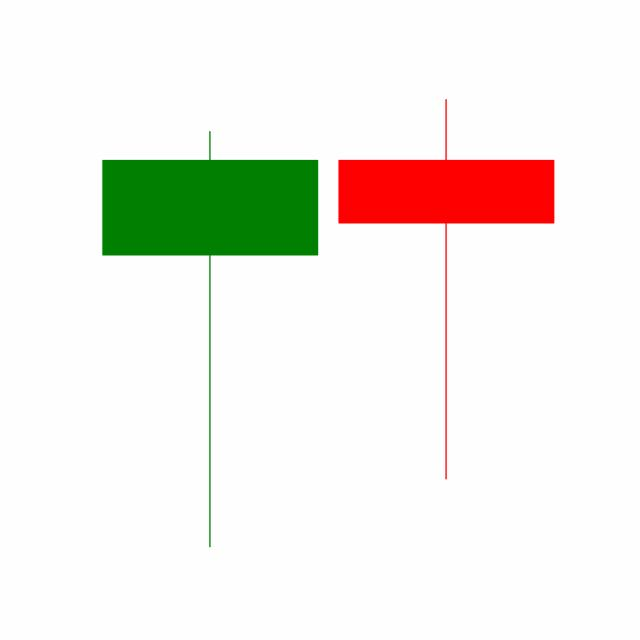Dragonfly Doji: (327, 95, 565, 484)
